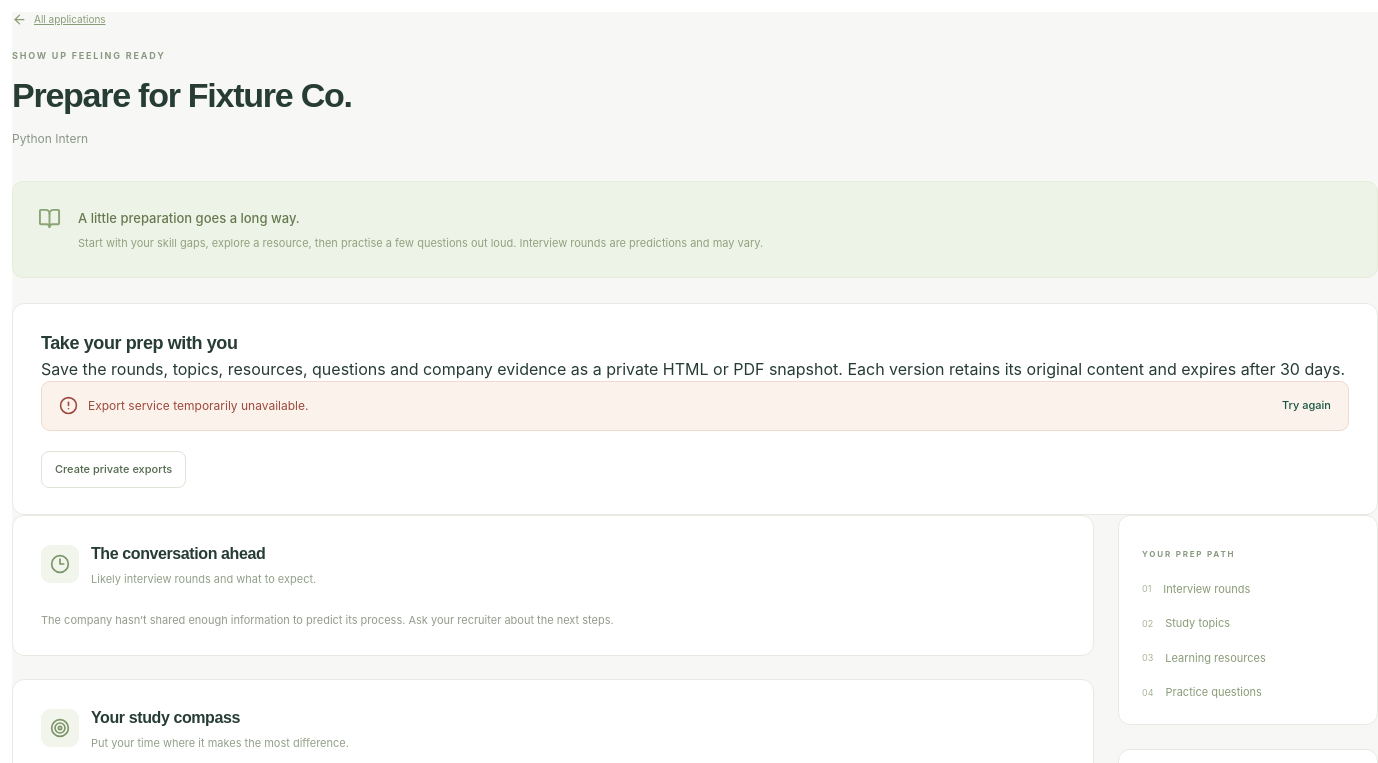
Test: private prep guide export controls › keeps the saved guide usable after API errors and can retry export metadata
Check: the message shows "Export service temporarily unavailable.", box [88,398,308,413]
Check: the heading "Your study compass" is shown, box [91,709,240,726]
Step 1. Click the button "Try again" → (1306, 405), box [1282,396,1331,414]
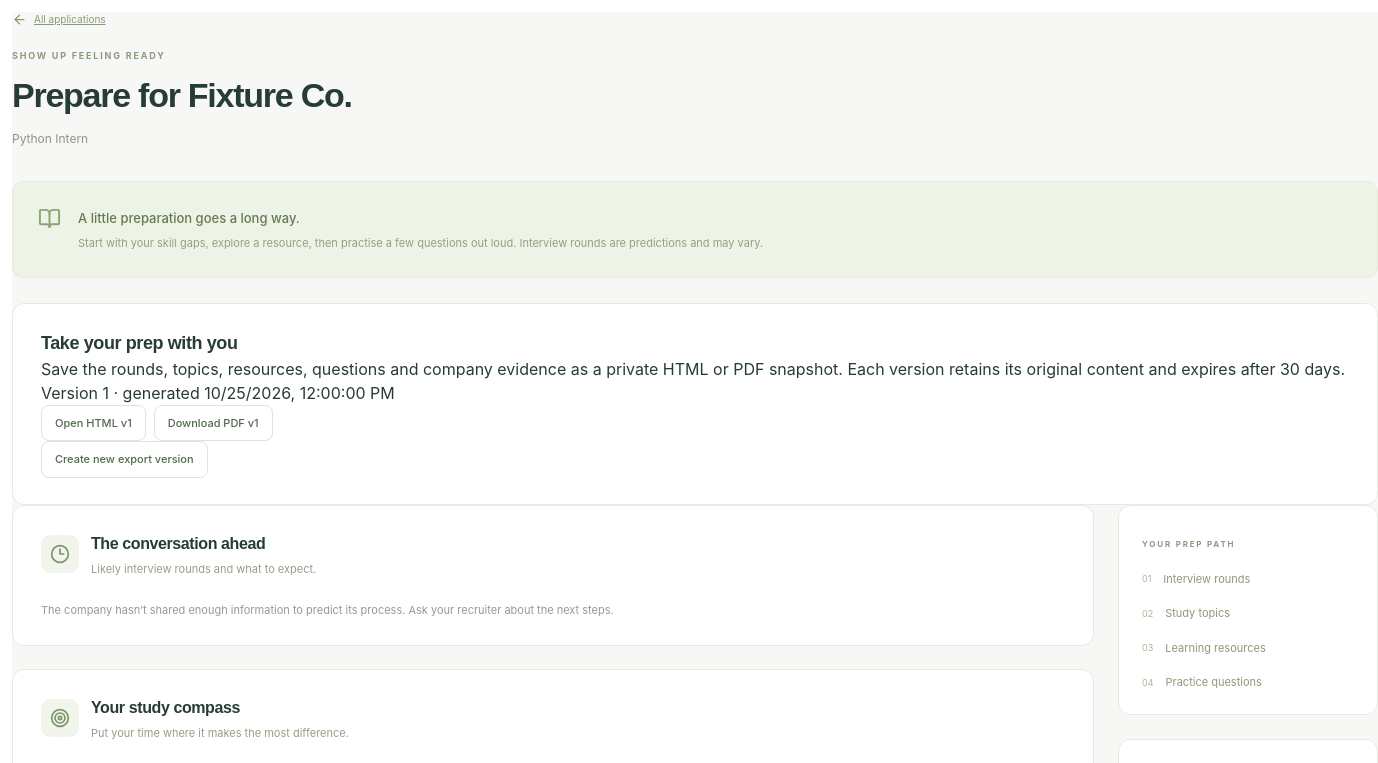
Check: the link "Download PDF v1" is shown, box [154,405,273,441]
